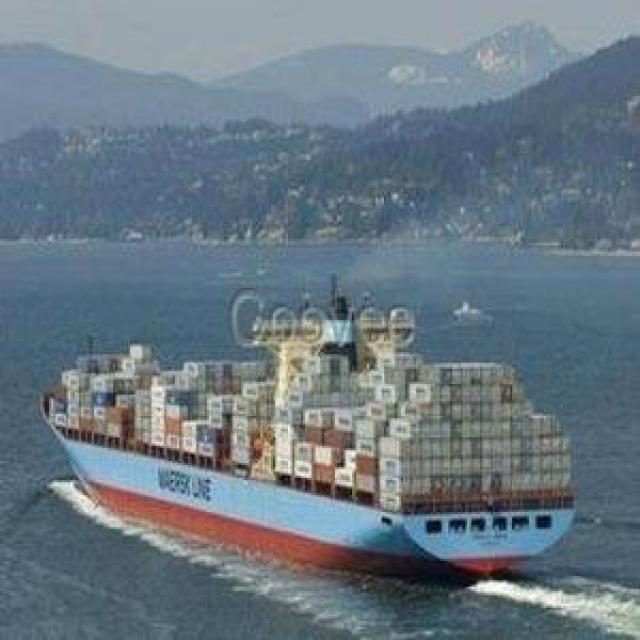cargoship: (38, 278, 572, 574)
